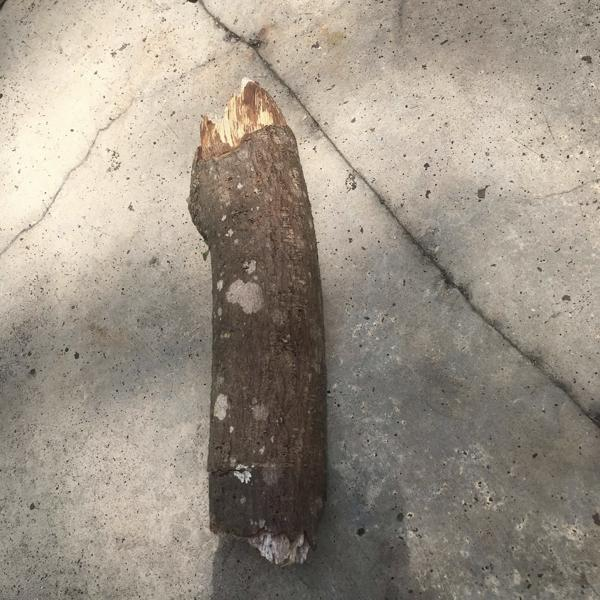Organik: (171, 76, 336, 580)
